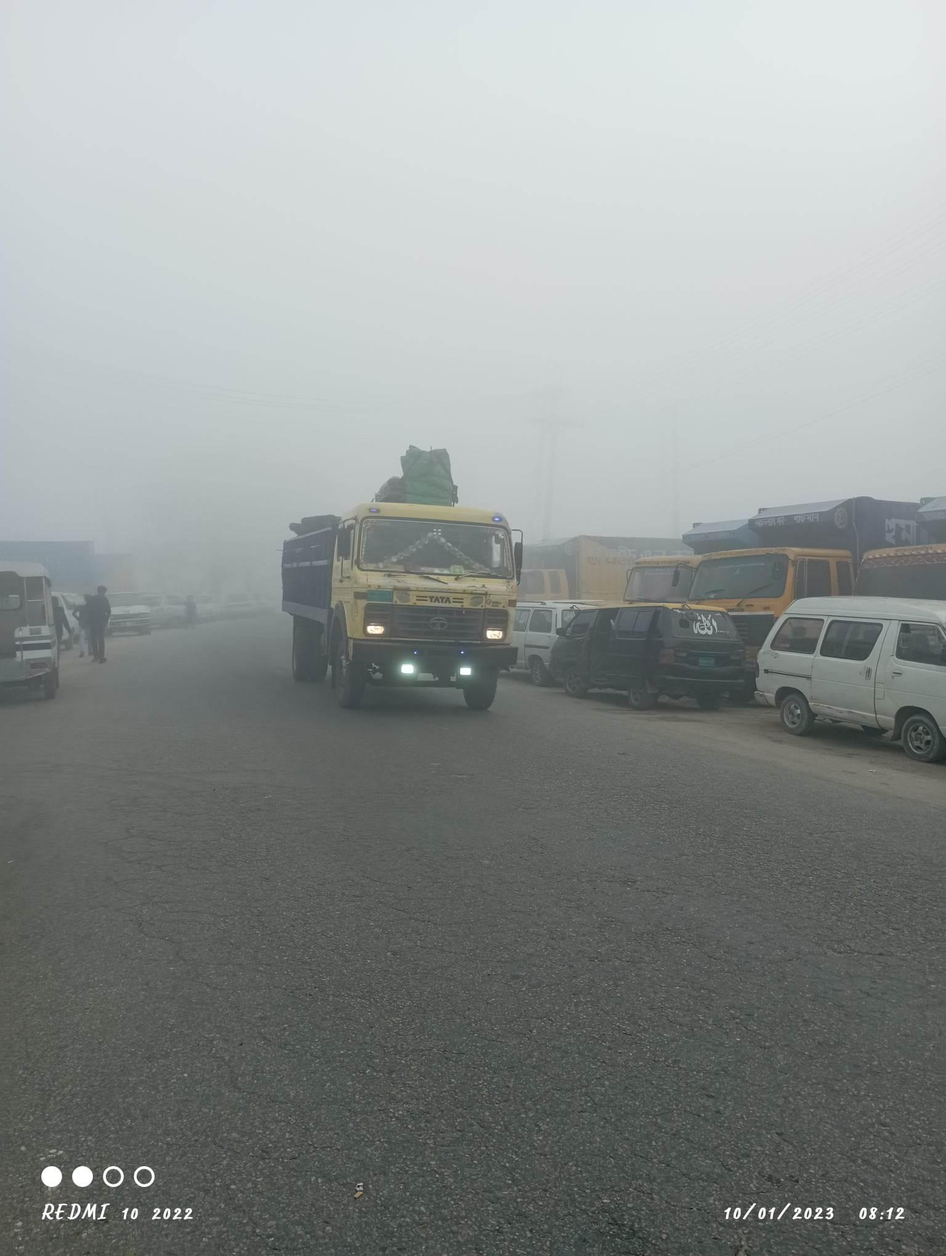Car: (742, 584, 946, 773), (547, 602, 746, 713), (11, 547, 94, 704), (84, 579, 160, 637)
Truck: (254, 449, 535, 757)
